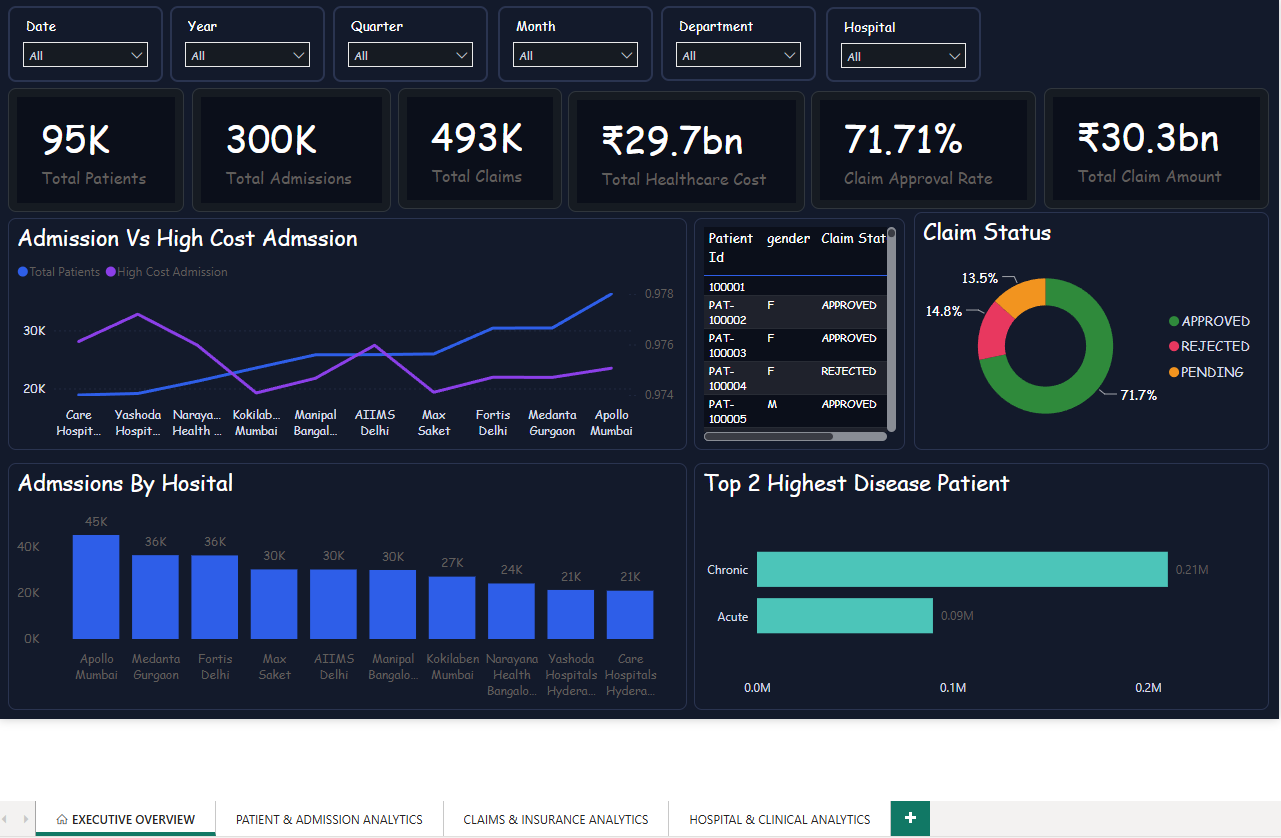

This screenshot's page, from the dashboard's own definition file:
{"tool":"powerbi","page":{"name":"EXECUTIVE OVERVIEW","canvas":[1280,720],"ordinal":0},"visuals":[{"type":"slicer","fields":{"Values":["dim_hospital.department"]},"box":[662,6.7,154.7,75.3],"z":0},{"type":"slicer","fields":{"Values":["dim_hospital.hospital_name"]},"box":[827,8,155,75],"z":1000},{"type":"slicer","fields":{"Values":["dim_date.full_date.Variation.Date Hierarchy.Month"]},"box":[499,7,155,76],"z":2000},{"type":"slicer","fields":{"Values":["dim_date.full_date.Variation.Date Hierarchy.Quarter1"]},"box":[334,7,155,76],"z":3000},{"type":"slicer","fields":{"Values":["dim_date.full_date.Variation.Date Hierarchy.Year"]},"box":[171,7,155,76],"z":4000},{"type":"slicer","fields":{"Values":["dim_date.Dday"]},"box":[9,7,155,76],"z":5000},{"type":"cardVisual","fields":{"Data":["_All Measures.Total Patients"]},"box":[9.2,89.2,175.8,123.3],"z":6000},{"type":"cardVisual","fields":{"Data":["_All Measures.Total Claims"]},"box":[399.2,89.2,163.3,120.8],"z":7000},{"type":"cardVisual","fields":{"Data":["_All Measures.Total Admissions"]},"box":[192.5,89.2,199.2,123.3],"z":8000},{"type":"cardVisual","fields":{"Data":["_All Measures.Total Claim Amount"]},"box":[1045,89,225,121],"z":9000},{"type":"cardVisual","fields":{"Data":["_All Measures.Total Healthcare Cost"]},"box":[569.1,91.8,237.3,120.9],"z":10000},{"type":"cardVisual","fields":{"Data":["_All Measures.Claim Approval Rate"]},"box":[812,92,225,118],"z":11000},{"type":"clusteredColumnChart","title":"Admssions By Hosital","fields":{"Category":["dim_hospital.hospital_name"],"Y":["_All Measures.Total Admissions"]},"box":[9.1,463.6,679.1,247.3],"z":12000},{"type":"donutChart","title":"Claim Status","fields":{"Y":["_All Measures.Total Claims"],"Category":["fact_claims.Claim Status Grouped"]},"box":[915.5,212.7,354.5,238.2],"z":13000},{"type":"barChart","title":"Top 2 Highest Disease Patient","fields":{"Y":["_All Measures.Total Admissions"],"Category":["dim_diagnostics.disease_type"]},"box":[694.5,463.6,575.5,247.3],"z":14000},{"type":"lineChart","title":"Admission Vs High Cost Admssion","fields":{"Category":["dim_hospital.hospital_name"],"Y":["_All Measures.Total Patients"],"Y2":["_All Measures.High Cost Admission %"]},"box":[9.1,219.1,679.1,231.8],"z":15000},{"type":"tableEx","fields":{"Values":["dim_patient.patient_id","dim_patient.gender","fact_claims.Claim Status Grouped"]},"box":[694.5,219.1,211.8,231.8],"z":16000}]}

Visuals, with their boxes on the page's 1280x720 design canvas (x1, y1, x2, y2). These are canvas units, not pixel positions in the 1281x838 screenshot, which may show the page scaled, cropped or inside an application window:
slicer - dim_hospital.department: detection(662, 7, 817, 82)
slicer - dim_hospital.hospital_name: detection(827, 8, 982, 83)
slicer - dim_date.full_date.Variation.Date Hierarchy.Month: detection(499, 7, 654, 83)
slicer - dim_date.full_date.Variation.Date Hierarchy.Quarter1: detection(334, 7, 489, 83)
slicer - dim_date.full_date.Variation.Date Hierarchy.Year: detection(171, 7, 326, 83)
slicer - dim_date.Dday: detection(9, 7, 164, 83)
cardVisual - _All Measures.Total Patients: detection(9, 89, 185, 212)
cardVisual - _All Measures.Total Claims: detection(399, 89, 562, 210)
cardVisual - _All Measures.Total Admissions: detection(192, 89, 392, 212)
cardVisual - _All Measures.Total Claim Amount: detection(1045, 89, 1270, 210)
cardVisual - _All Measures.Total Healthcare Cost: detection(569, 92, 806, 213)
cardVisual - _All Measures.Claim Approval Rate: detection(812, 92, 1037, 210)
"Admssions By Hosital" clusteredColumnChart: detection(9, 464, 688, 711)
"Claim Status" donutChart: detection(916, 213, 1270, 451)
"Top 2 Highest Disease Patient" barChart: detection(694, 464, 1270, 711)
"Admission Vs High Cost Admssion" lineChart: detection(9, 219, 688, 451)
tableEx - dim_patient.patient_id x dim_patient.gender: detection(694, 219, 906, 451)
